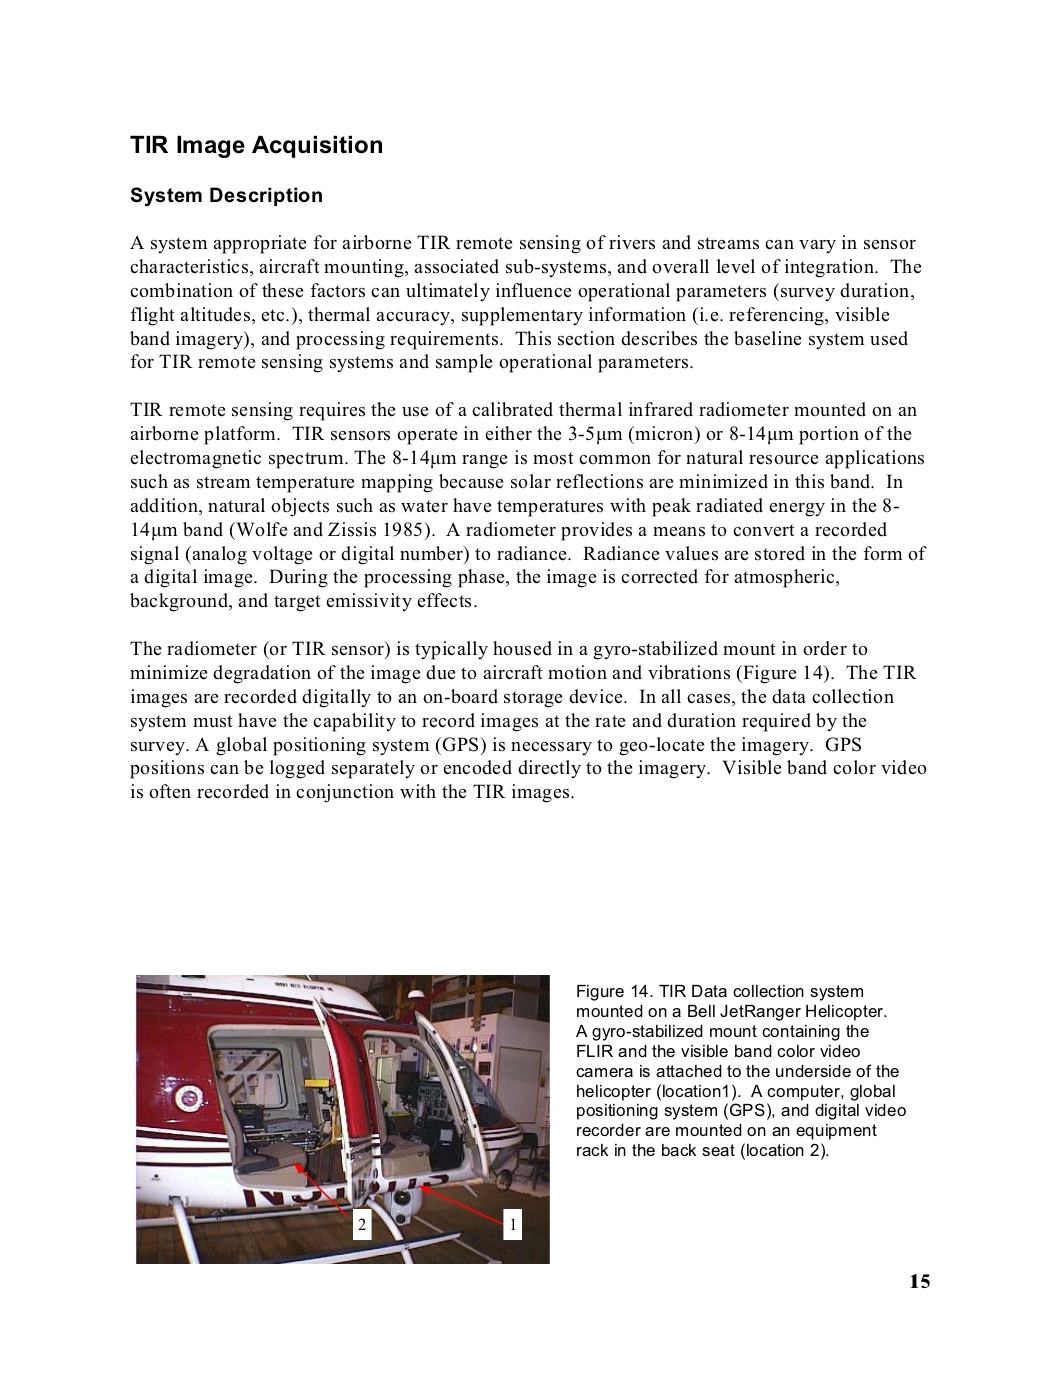figure: (134, 974, 549, 1264)
